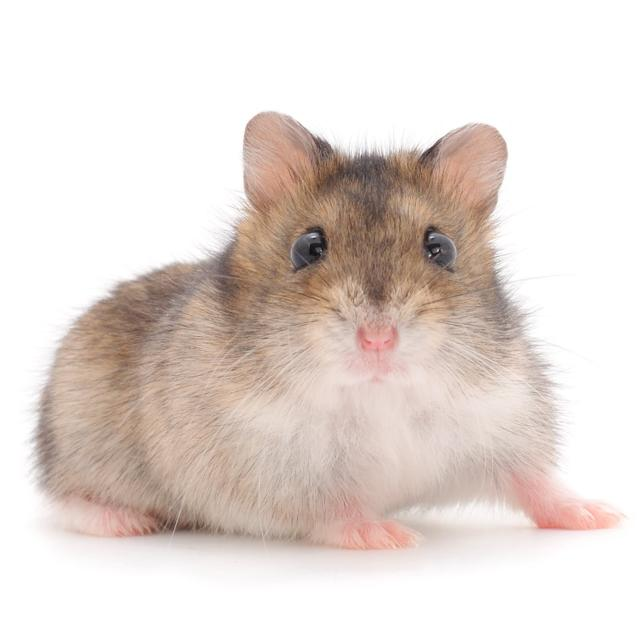hamster: (100, 119, 569, 570)
